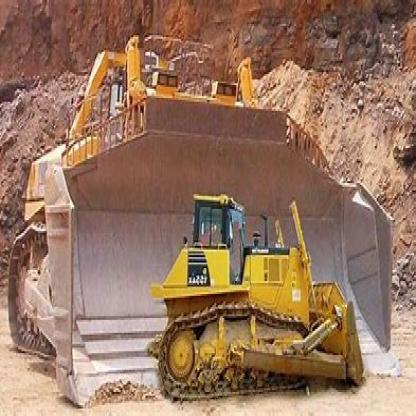bull_dozer/loader/grader: (151, 185, 363, 405)
